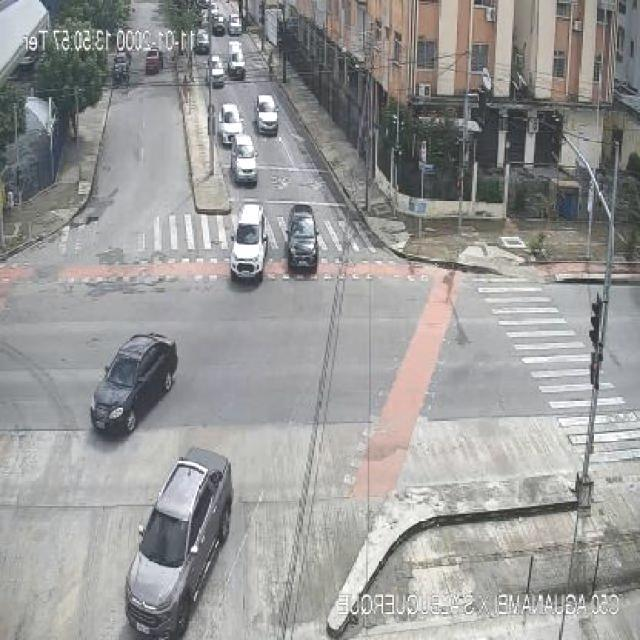car: (126, 448, 234, 640), (90, 334, 178, 432), (230, 204, 268, 280), (288, 205, 318, 274), (231, 134, 256, 186), (218, 104, 242, 145), (256, 95, 276, 135), (111, 52, 130, 87), (228, 41, 245, 80), (208, 55, 225, 88), (145, 48, 164, 74), (194, 29, 210, 54), (228, 14, 242, 36), (212, 15, 225, 36)
traffic-lights: (576, 294, 604, 509)
